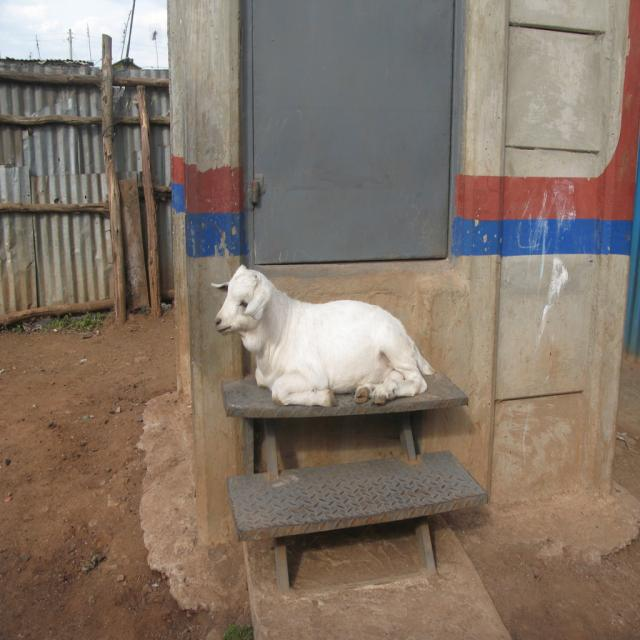Goat: (206, 250, 452, 430)
